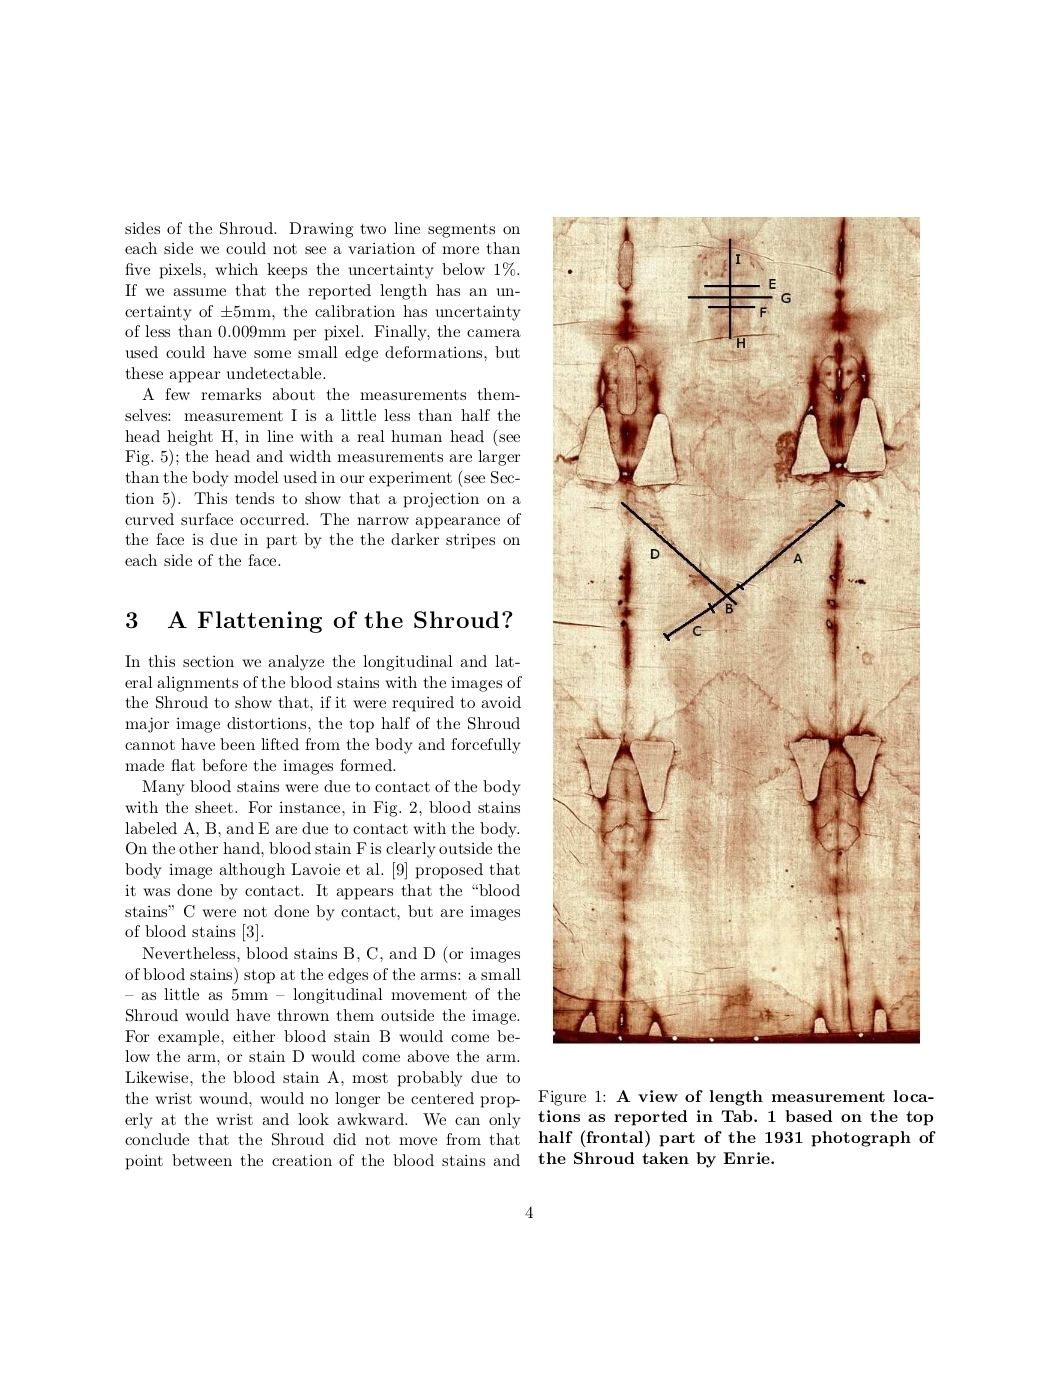figure: (552, 215, 919, 1044)
